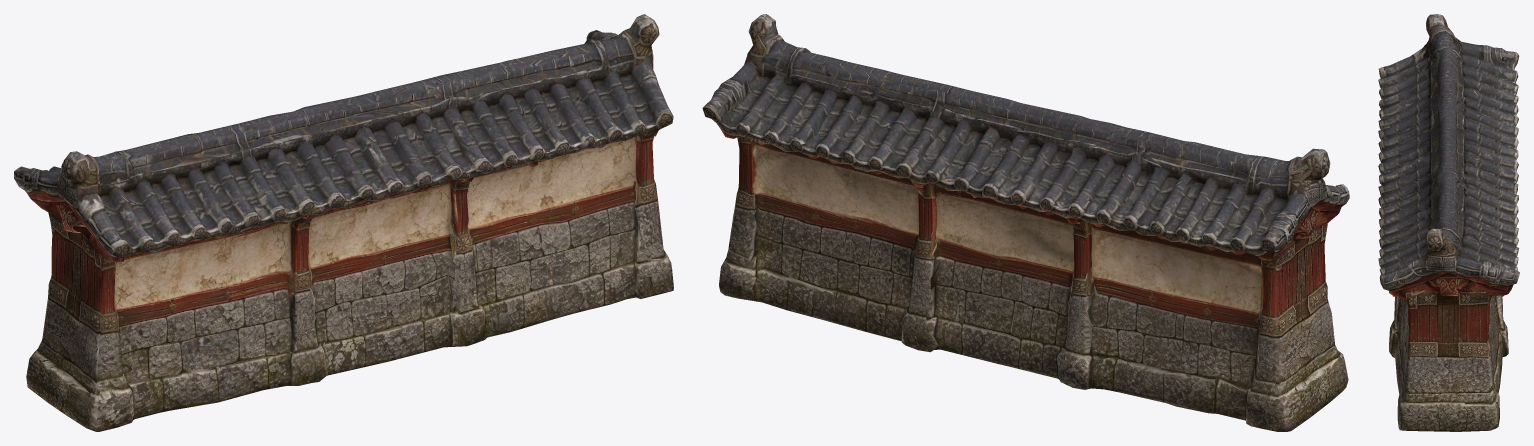
The model's file is muro.glb.
3 renders of one model, left to right at view 1: azimuth 30°, elevation 25°; view 2: azimuth 150°, elevation 25°; view 3: azimuth 270°, elevation 25°, orthographic. The views are drawn at different scales.
Visible parts, largest first — view 1: muro; view 2: muro; view 3: muro.
Part boxes in pixels (x1,y1,x2,y2): muro: [14, 14, 673, 431]; muro: [702, 14, 1349, 431]; muro: [1378, 14, 1519, 431].
Bounding box in the file's own units: 5.25 × 2.2 × 1.41.
Materials: 1 (1 with a texture image).
